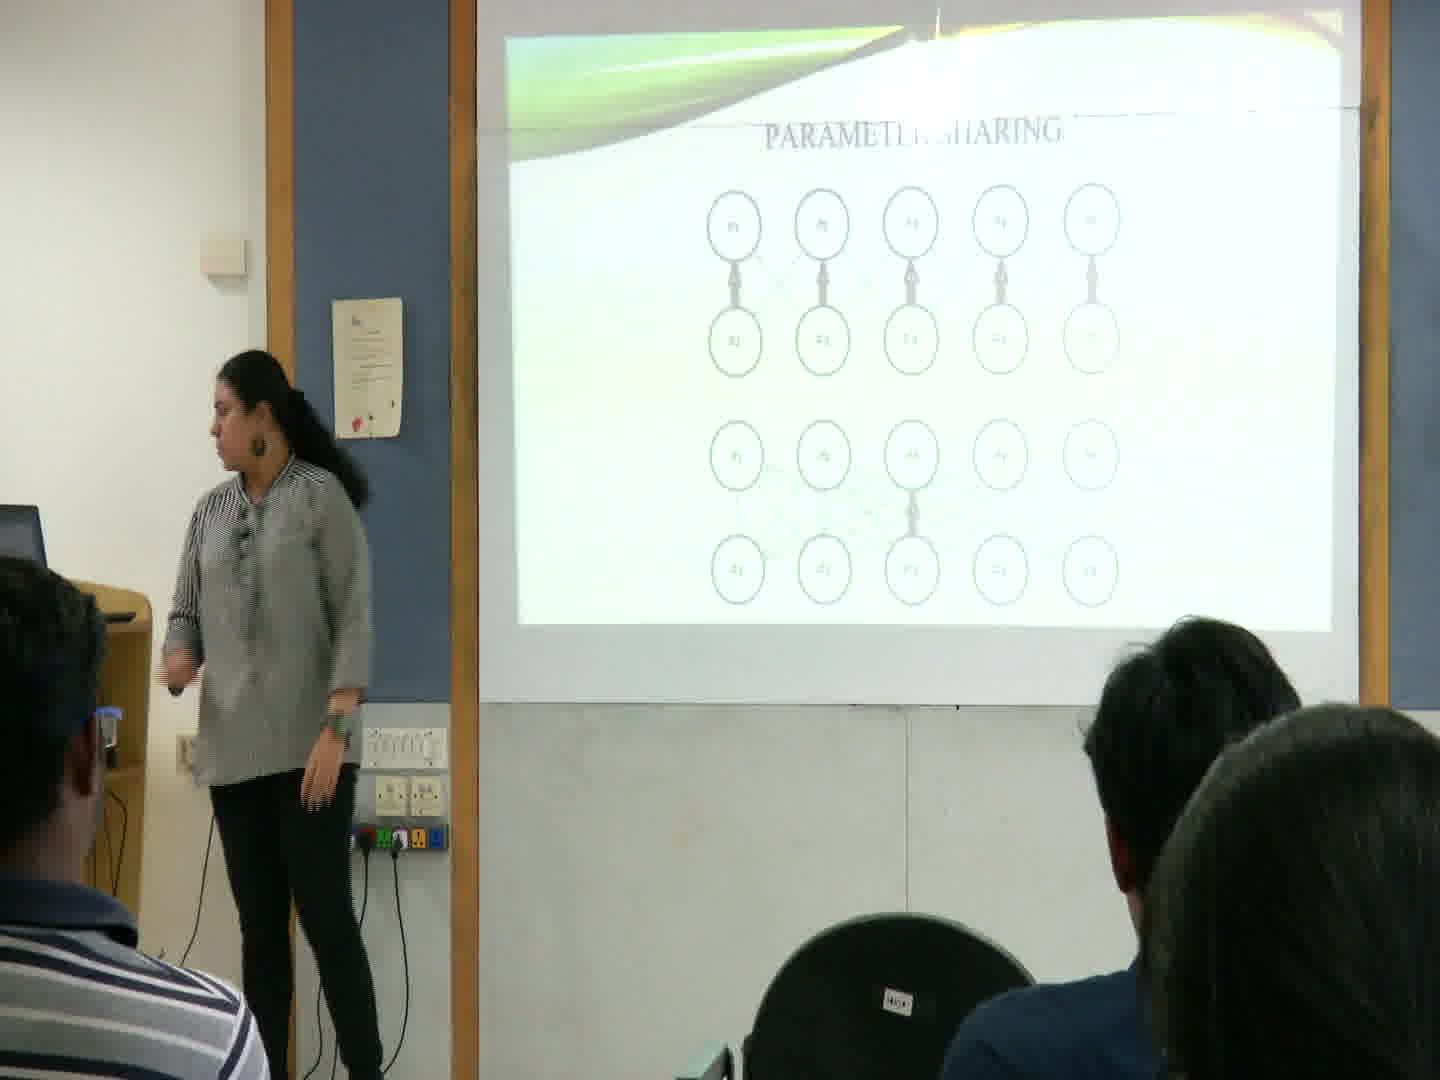slide: (506, 12, 1338, 632)
